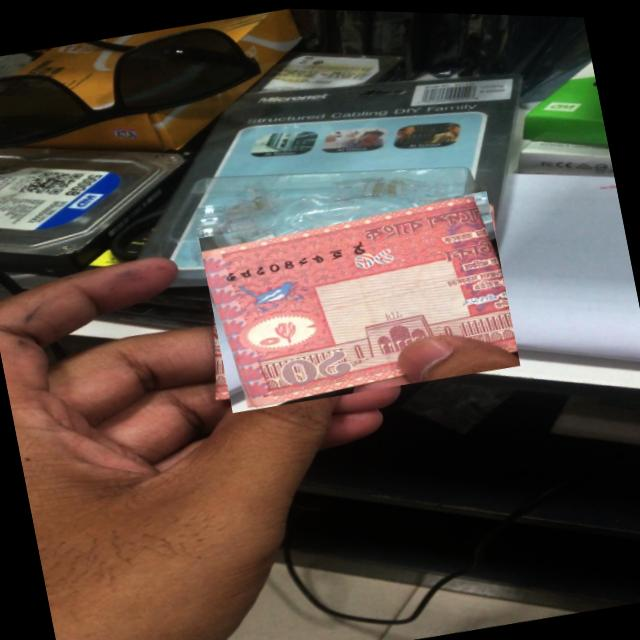Taka: (199, 181, 521, 419)
